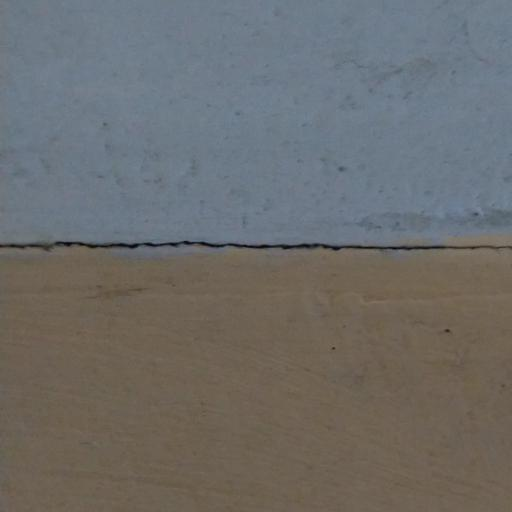major_crack: (0, 217, 512, 271)
